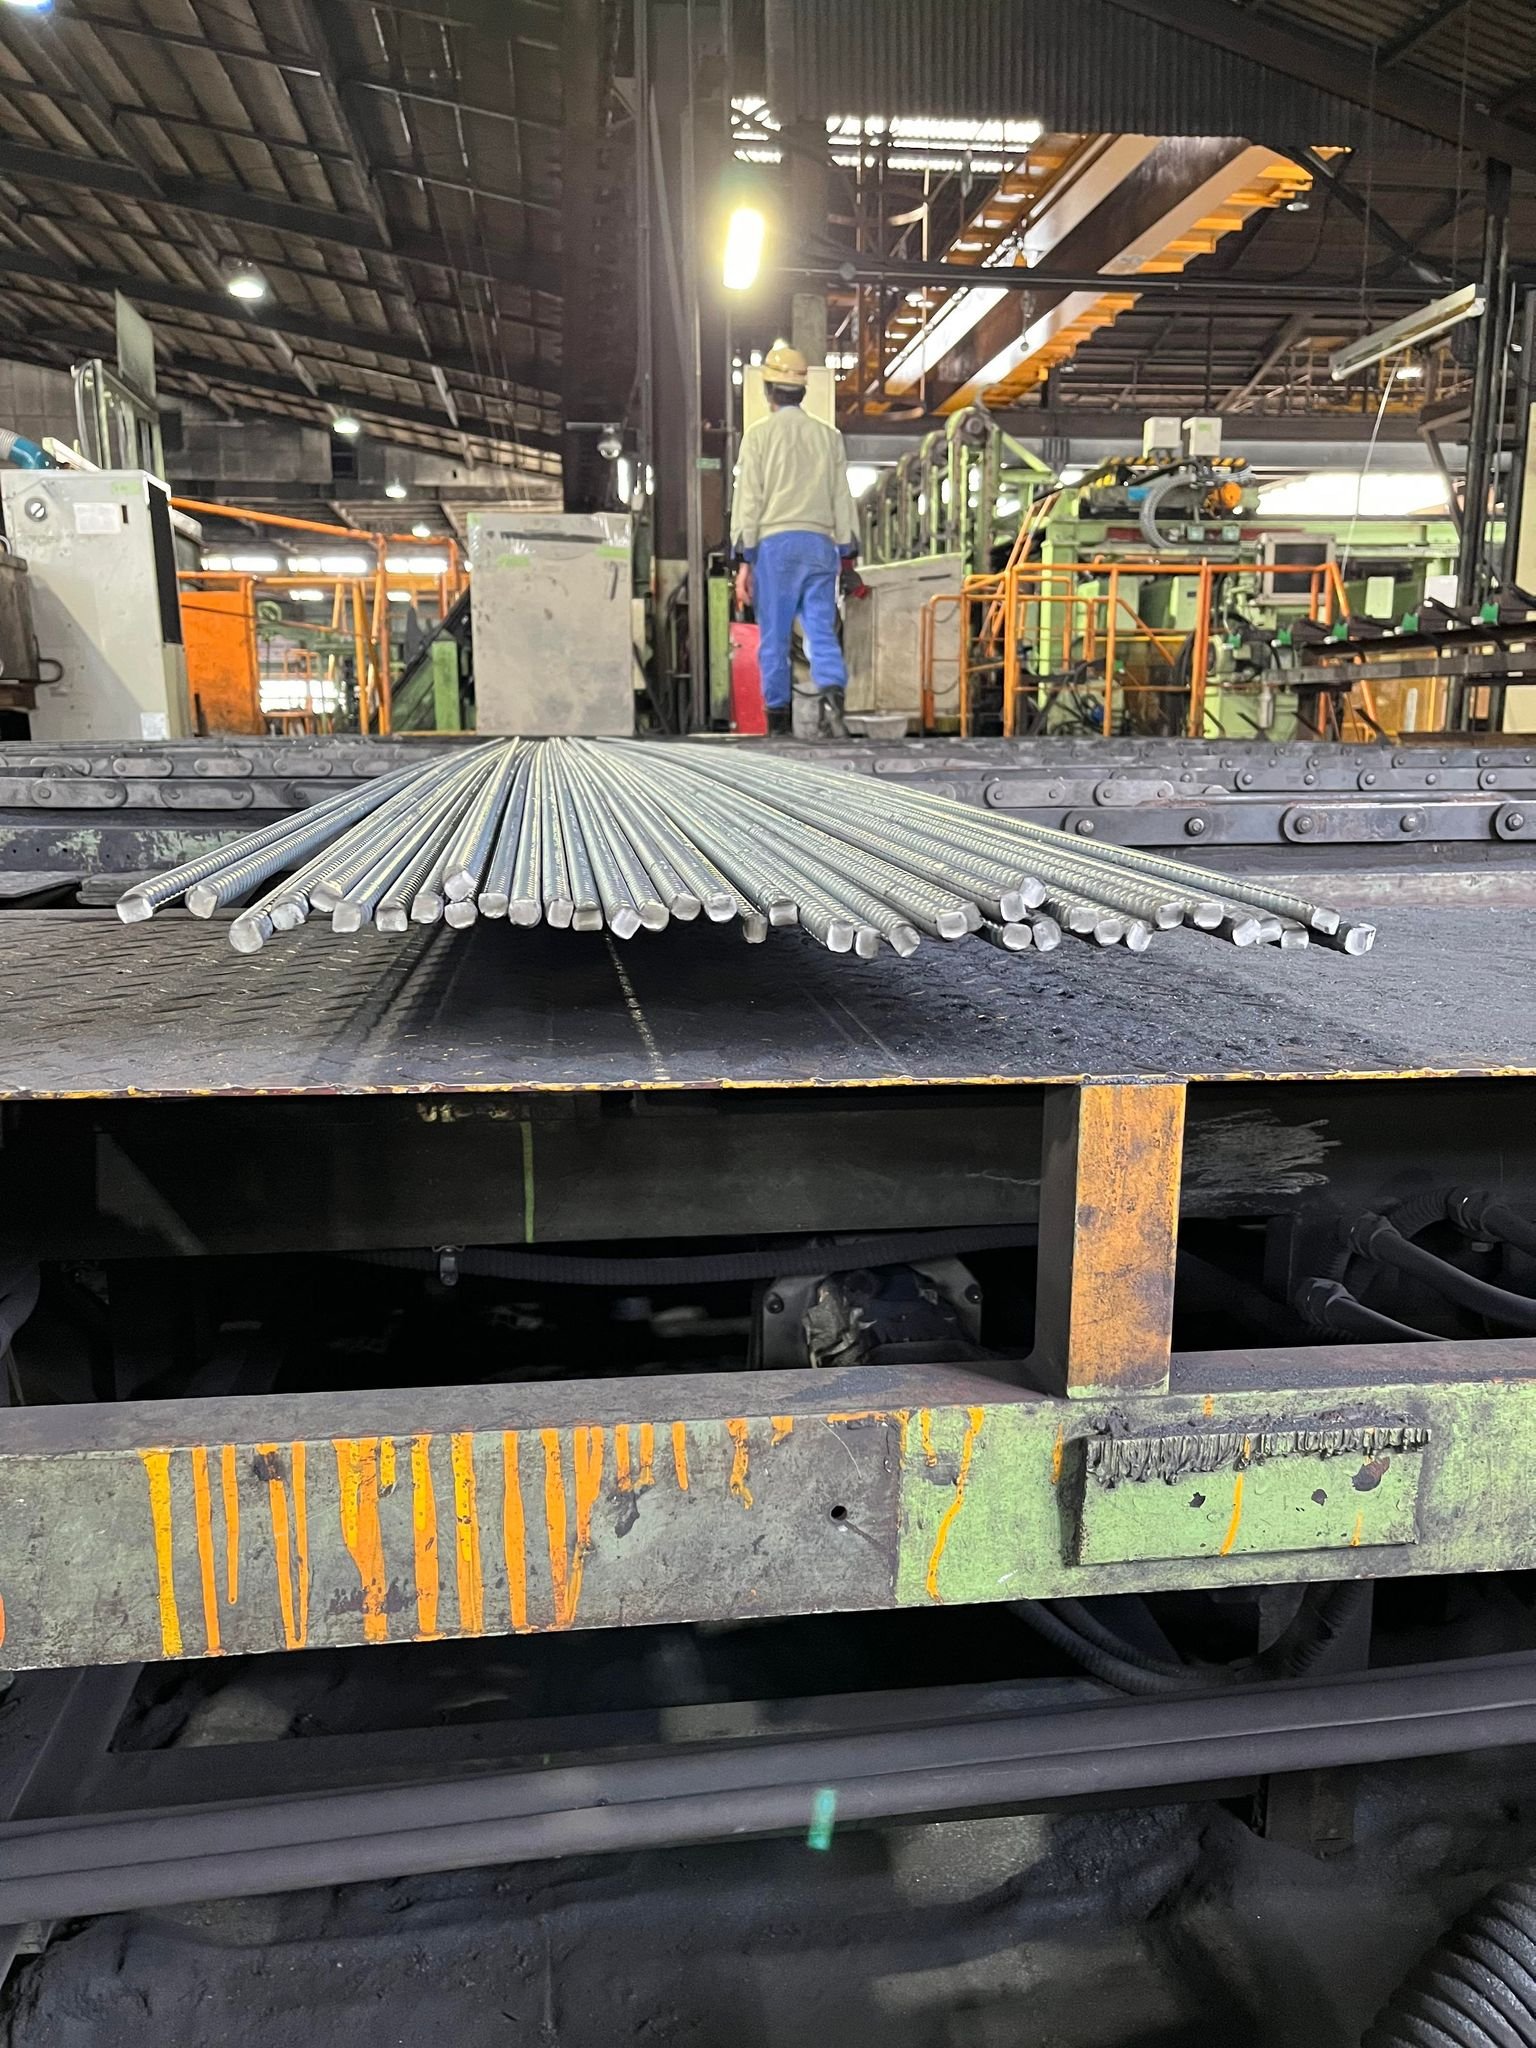rod: (224, 914, 268, 959), (181, 880, 223, 922), (887, 919, 925, 959), (1342, 922, 1383, 959), (269, 898, 308, 935), (408, 889, 445, 927), (933, 906, 970, 943), (115, 892, 153, 927), (331, 897, 366, 935), (373, 900, 411, 935), (307, 879, 344, 914), (607, 905, 642, 942), (703, 889, 739, 926), (571, 893, 603, 934), (442, 868, 479, 901), (766, 893, 800, 930), (1309, 901, 1346, 935), (668, 887, 700, 926), (1016, 872, 1049, 911), (737, 911, 771, 947), (823, 918, 855, 955), (1191, 901, 1228, 934), (507, 897, 545, 927), (442, 901, 479, 932), (639, 897, 670, 934), (854, 922, 883, 961), (1092, 914, 1125, 948), (1229, 916, 1263, 948), (999, 922, 1034, 953), (1065, 903, 1100, 934), (1154, 901, 1186, 934), (544, 897, 574, 930), (1034, 918, 1063, 953), (958, 898, 986, 935), (478, 889, 510, 919), (999, 890, 1029, 922), (1279, 922, 1313, 951), (1128, 918, 1154, 955), (1260, 911, 1283, 945)
